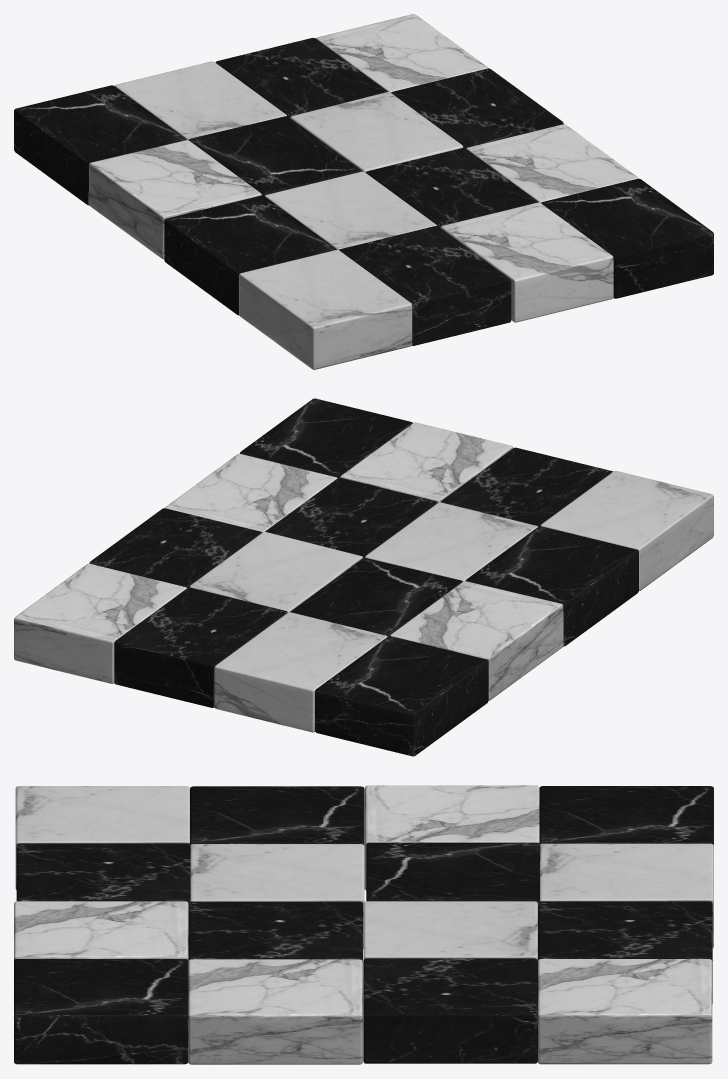
Rendered from HeavenFloorCombined.fbx.
The picture shows the model from 3 angles, top to bottom: view 1: azimuth 30°, elevation 25°; view 2: azimuth 150°, elevation 25°; view 3: azimuth 270°, elevation 25°; orthographic projection. The views are drawn at different scales.
Parts seen in each view (by area): view 1: polySurface9; view 2: polySurface9; view 3: polySurface9.
Part boxes in pixels (bbox=[...]): polySurface9: bbox=[14, 14, 713, 369]; polySurface9: bbox=[14, 398, 713, 756]; polySurface9: bbox=[14, 785, 713, 1064].
Bounding box in the file's own units: 12.58 × 1.38 × 16.34.
2 materials, 2 textured.
